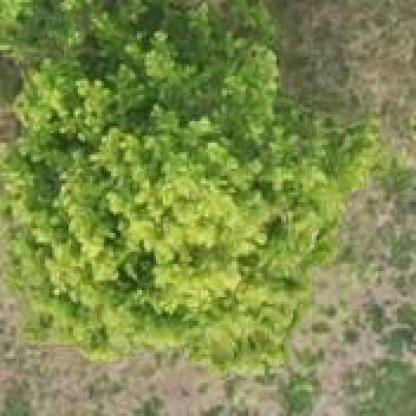Deciduous Tree: (0, 14, 355, 359)
